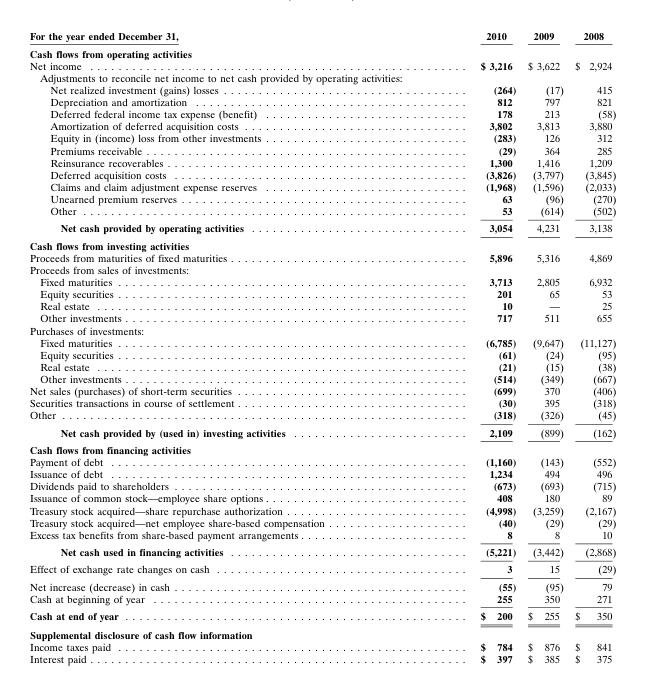table: (29, 28, 615, 664)
table column: (29, 28, 401, 664), (401, 28, 521, 664), (521, 28, 568, 664), (568, 28, 615, 664)
table column header: (29, 28, 615, 43)
table projected row header: (29, 624, 615, 640), (29, 43, 615, 58), (29, 236, 615, 251), (29, 440, 615, 455), (29, 323, 615, 336), (29, 71, 615, 83), (29, 263, 615, 275)
table row: (29, 542, 615, 560), (29, 606, 615, 624), (29, 219, 615, 236), (29, 423, 615, 440), (29, 560, 615, 577), (29, 624, 615, 640), (29, 28, 615, 43), (29, 43, 615, 58), (29, 204, 615, 219), (29, 236, 615, 251), (29, 408, 615, 423), (29, 440, 615, 455), (29, 591, 615, 606), (29, 528, 615, 542), (29, 577, 615, 591), (29, 58, 615, 71), (29, 143, 615, 156), (29, 323, 615, 336), (29, 503, 615, 516), (29, 71, 615, 83), (29, 83, 615, 95), (29, 95, 615, 107), (29, 107, 615, 119), (29, 119, 615, 131), (29, 131, 615, 143), (29, 156, 615, 168), (29, 168, 615, 180), (29, 180, 615, 192), (29, 192, 615, 204), (29, 251, 615, 263), (29, 263, 615, 275), (29, 275, 615, 287), (29, 287, 615, 299), (29, 299, 615, 311), (29, 311, 615, 323), (29, 336, 615, 348), (29, 348, 615, 360), (29, 360, 615, 372), (29, 372, 615, 384), (29, 384, 615, 396), (29, 396, 615, 408), (29, 455, 615, 467), (29, 467, 615, 479), (29, 479, 615, 491), (29, 491, 615, 503), (29, 516, 615, 528), (29, 640, 615, 652), (29, 652, 615, 664)
